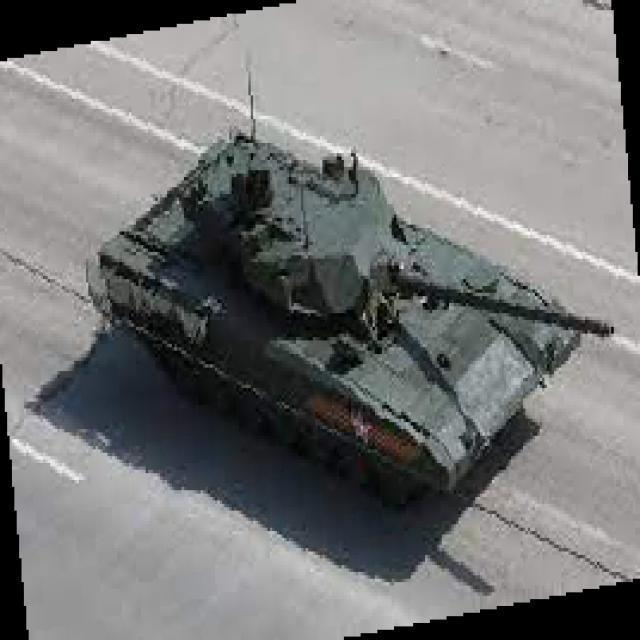Tanks: (84, 122, 614, 508)
